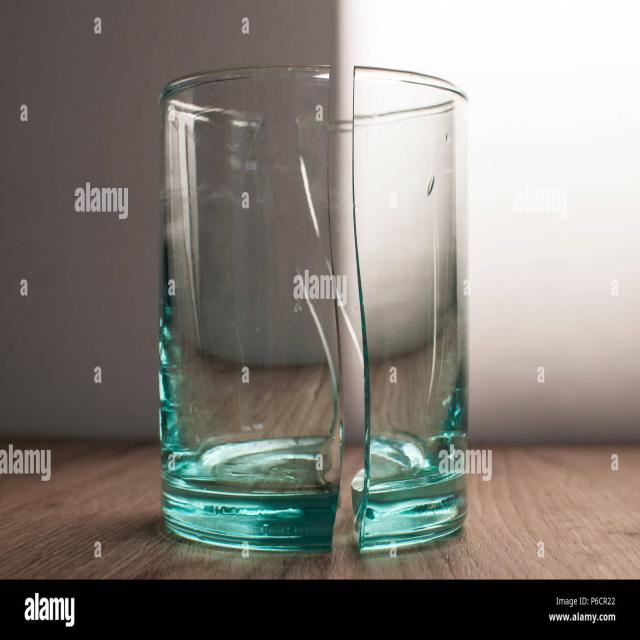Dry Waste: (153, 63, 342, 551), (352, 61, 470, 553)
